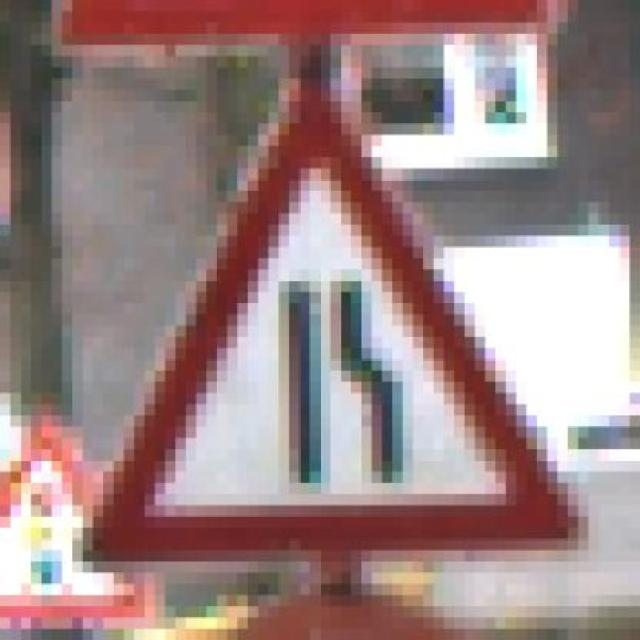-Road narrows on right: (52, 68, 599, 562)
